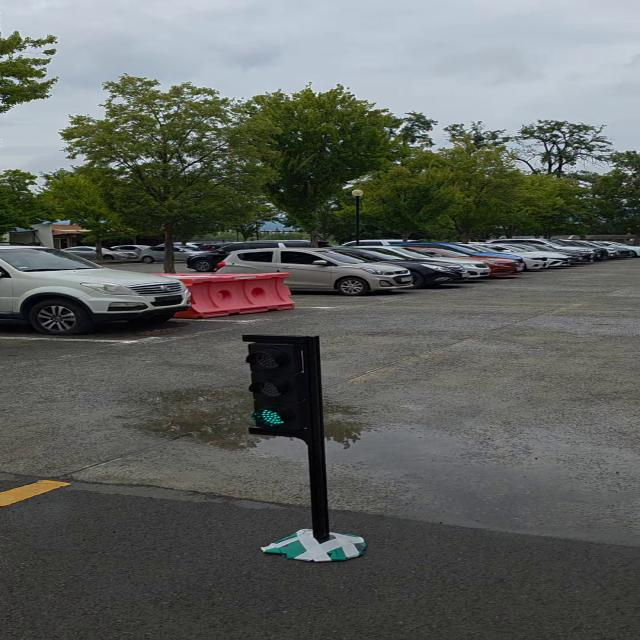green: (246, 334, 323, 438)
